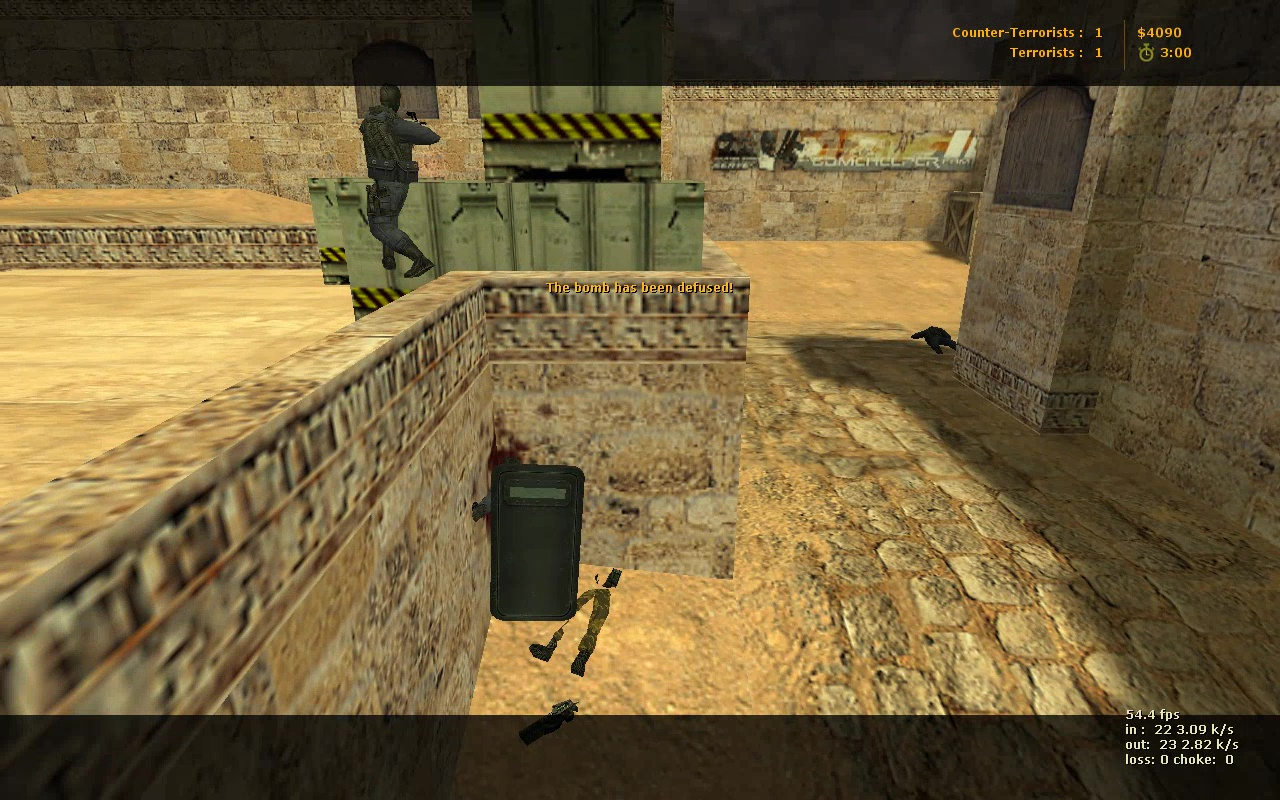ct: (356, 82, 445, 283), (483, 456, 584, 624)
dead: (910, 324, 961, 355)
